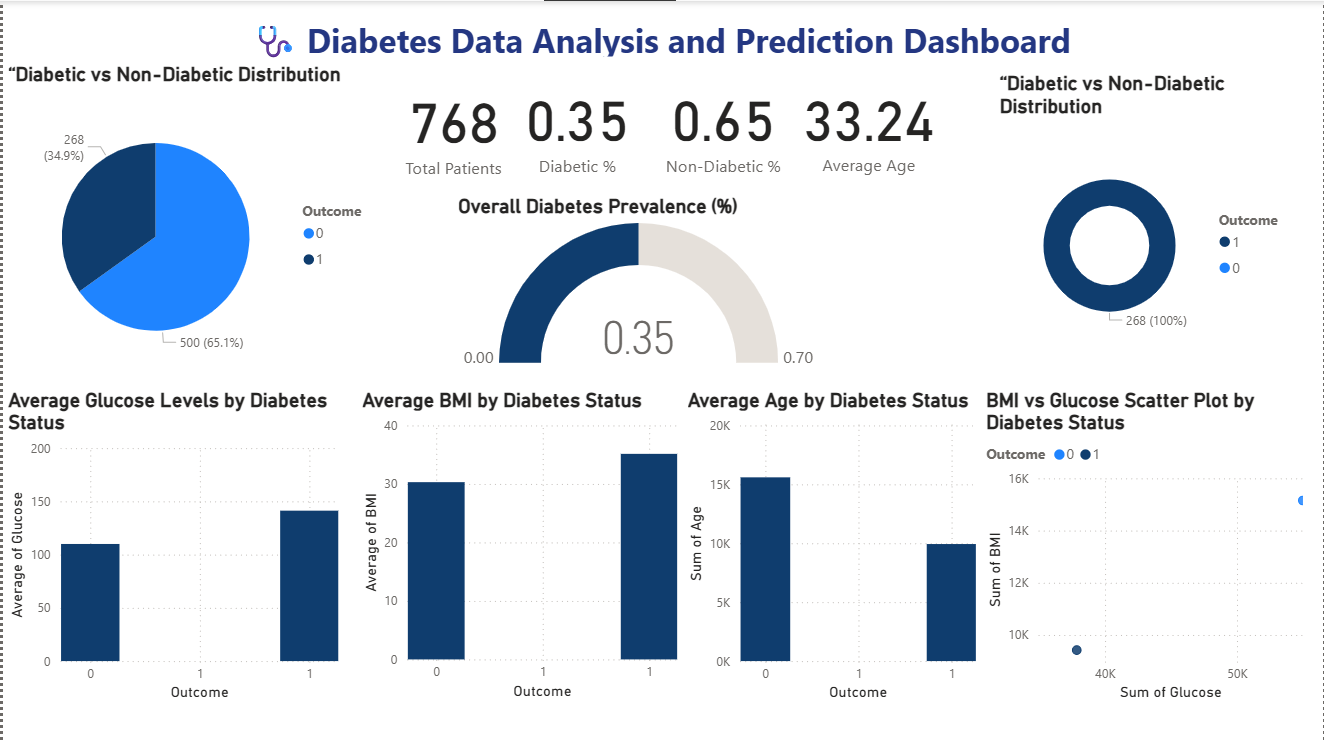

The page's visual inventory and layout, read from the dashboard file:
{"tool":"powerbi","page":{"name":"Page 1","canvas":[1280,720],"ordinal":0},"visuals":[{"type":"textbox","box":[16.7,10.6,1246.2,53],"z":0},{"type":"card","fields":{"Values":["diabetes.Total Patients"]},"box":[372.5,60.6,128.7,122.7],"z":1000},{"type":"card","fields":{"Values":["diabetes.Diabetic %"]},"box":[490.6,54.5,133.3,133.3],"z":2000},{"type":"card","fields":{"Values":["diabetes.Non-Diabetic %"]},"box":[622.3,54.5,151.4,133.3],"z":3000},{"type":"card","fields":{"Values":["diabetes.Average Age"]},"box":[763.2,65.1,154.4,109],"z":4000},{"type":"pieChart","title":"“Diabetic vs Non-Diabetic Distribution","fields":{"Y":["CountNonNull(diabetes.Outcome)"],"Category":["diabetes.Outcome"]},"box":[0,59.9,372.4,315.7],"z":5000},{"type":"clusteredColumnChart","title":"Average Glucose Levels by Diabetes Status","fields":{"Category":["diabetes.Outcome"],"Y":["Avg(diabetes.Glucose)"]},"box":[0,375.7,330.3,307.7],"z":5001},{"type":"clusteredColumnChart","title":"Average BMI by Diabetes Status","fields":{"Category":["diabetes.Outcome"],"Y":["Avg(diabetes.BMI)"]},"box":[343.3,375.7,315.7,306],"z":5002},{"type":"clusteredColumnChart","title":"Average Age by Diabetes Status","fields":{"Category":["diabetes.Outcome"],"Y":["Sum(diabetes.Age)"]},"box":[659,375.7,289.8,307.7],"z":5003},{"type":"scatterChart","title":"BMI vs Glucose Scatter Plot by Diabetes Status","fields":{"X":["Sum(diabetes.Glucose)"],"Y":["Sum(diabetes.BMI)"],"Series":["diabetes.Outcome"]},"box":[948.9,375.7,327.1,307.7],"z":5004},{"type":"donutChart","title":"“Diabetic vs Non-Diabetic Distribution","fields":{"Y":["Sum(diabetes.Outcome)"],"Category":["diabetes.Outcome"]},"box":[961.8,68,299.6,293.1],"z":5005},{"type":"gauge","title":"Overall Diabetes Prevalence (%)","fields":{"Y":["diabetes.Diabetic %"]},"box":[437.2,187.8,359.5,173.3],"z":5006}]}

Visuals, with their boxes in screenshot pixels (x1, y1, x2, y2), scaled from the page's 1280x720 canvas onto the 1324x740 screenshot:
textbox: [17, 11, 1306, 65]
card - diabetes.Total Patients: [385, 62, 518, 188]
card - diabetes.Diabetic %: [507, 56, 645, 193]
card - diabetes.Non-Diabetic %: [644, 56, 800, 193]
card - diabetes.Average Age: [789, 67, 949, 179]
"“Diabetic vs Non-Diabetic Distribution" pieChart: [0, 62, 385, 386]
"Average Glucose Levels by Diabetes Status" clusteredColumnChart: [0, 386, 342, 702]
"Average BMI by Diabetes Status" clusteredColumnChart: [355, 386, 682, 701]
"Average Age by Diabetes Status" clusteredColumnChart: [682, 386, 981, 702]
"BMI vs Glucose Scatter Plot by Diabetes Status" scatterChart: [982, 386, 1320, 702]
"“Diabetic vs Non-Diabetic Distribution" donutChart: [995, 70, 1305, 371]
"Overall Diabetes Prevalence (%)" gauge: [452, 193, 824, 371]
